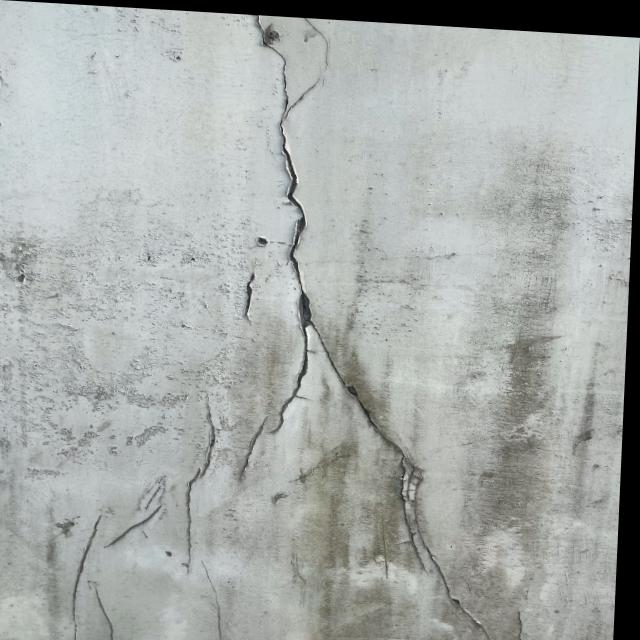crack: (203, 15, 524, 640), (67, 513, 105, 640)
mildew: (494, 330, 569, 532)
